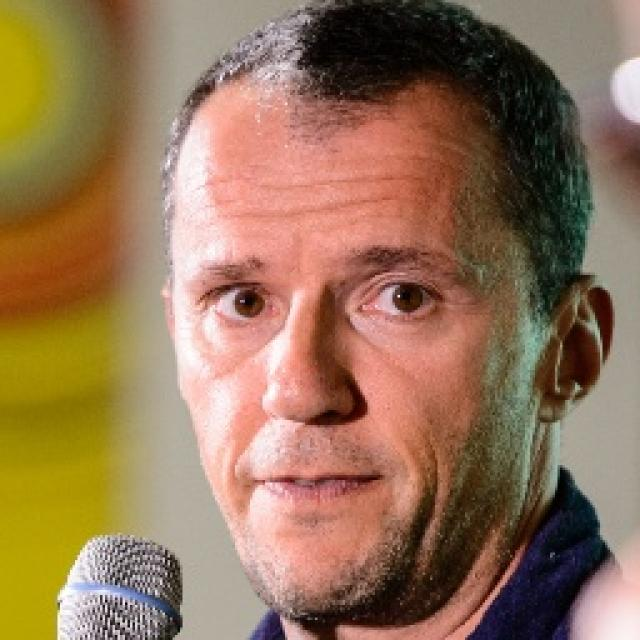earlobe: (537, 387, 571, 423)
eye: (360, 279, 440, 318), (212, 287, 273, 321)
nose: (266, 412, 364, 468)
wholeear: (538, 272, 614, 422)
